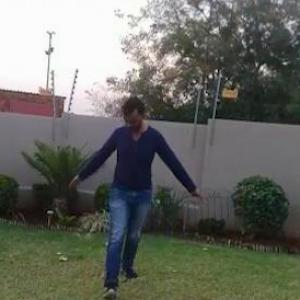land: (66, 92, 204, 297)
